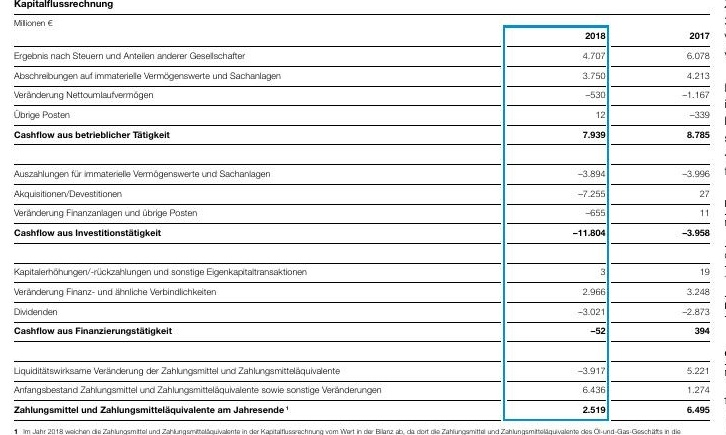table: (0, 0, 726, 435)
